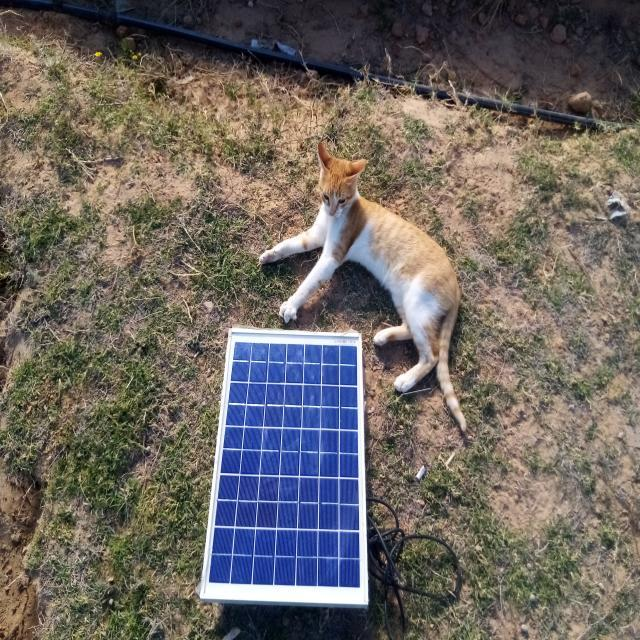no faulty: (201, 329, 367, 605)
